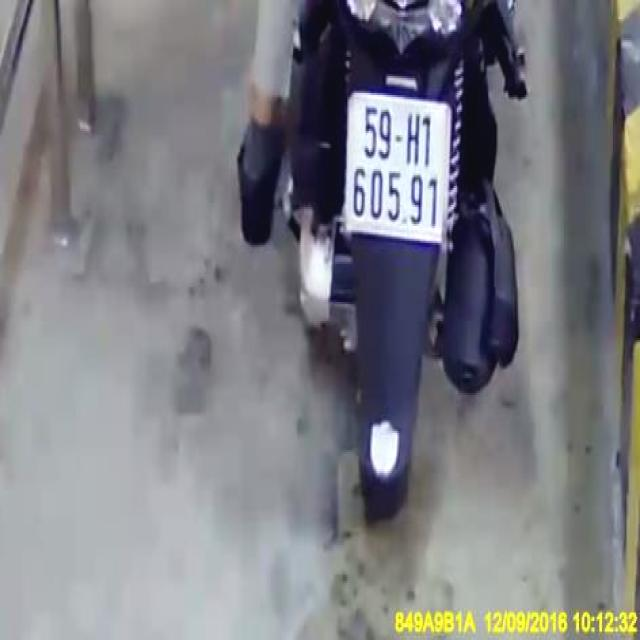0: (372, 160, 384, 229)
1: (424, 113, 436, 172), (428, 175, 440, 231)
5: (359, 97, 378, 162), (389, 169, 402, 226)
6: (348, 167, 368, 220)
9: (407, 167, 425, 231), (380, 102, 394, 169)
H: (406, 107, 424, 171)
